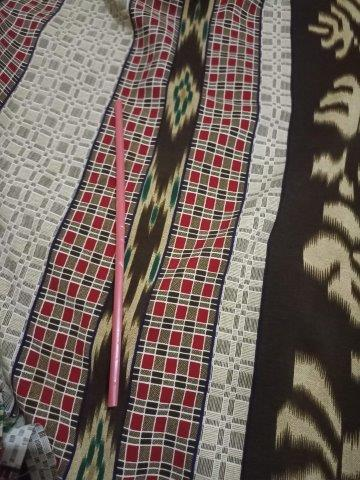sedotan: (108, 101, 124, 407)
